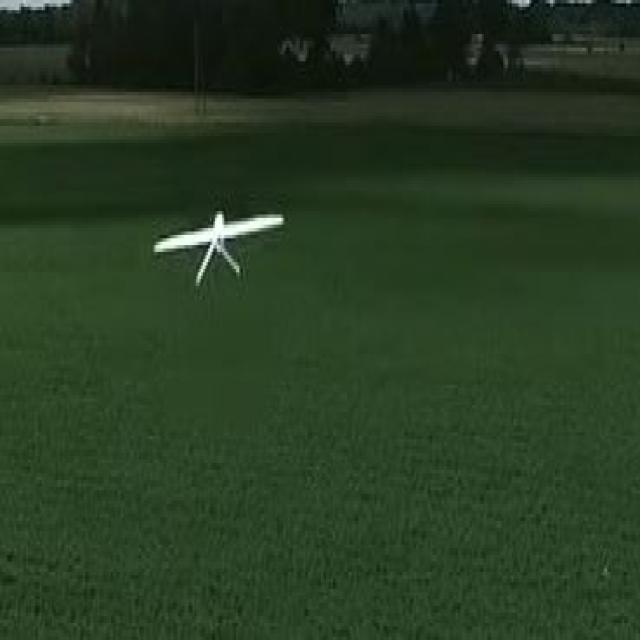iha: (154, 238, 282, 257)
